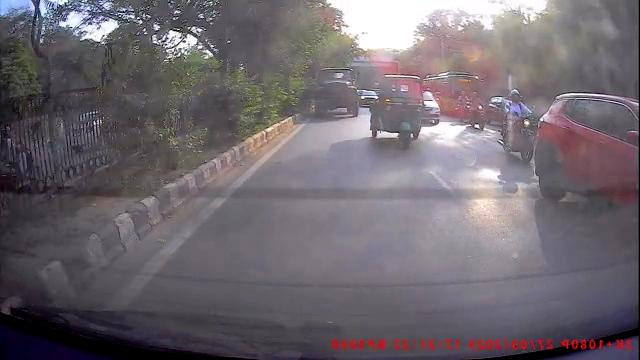motorcycle_with_helmet: (496, 87, 541, 163)
